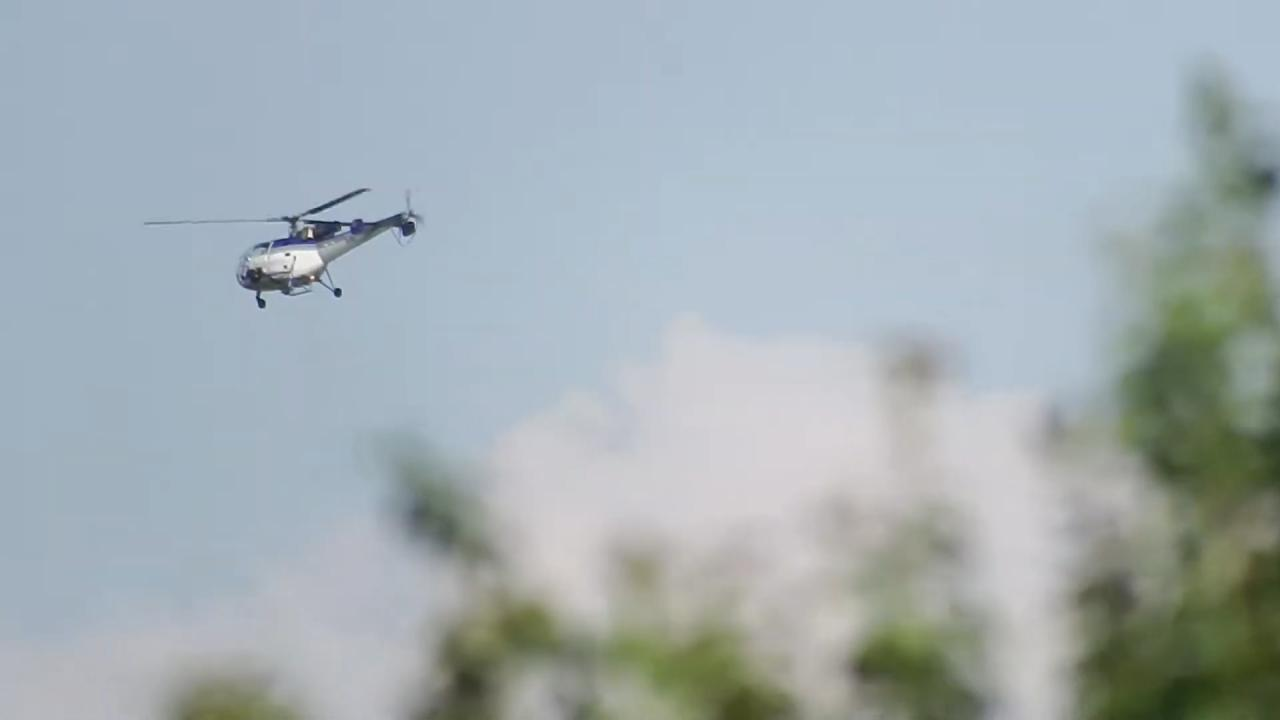Helicopter: (130, 157, 433, 344)
